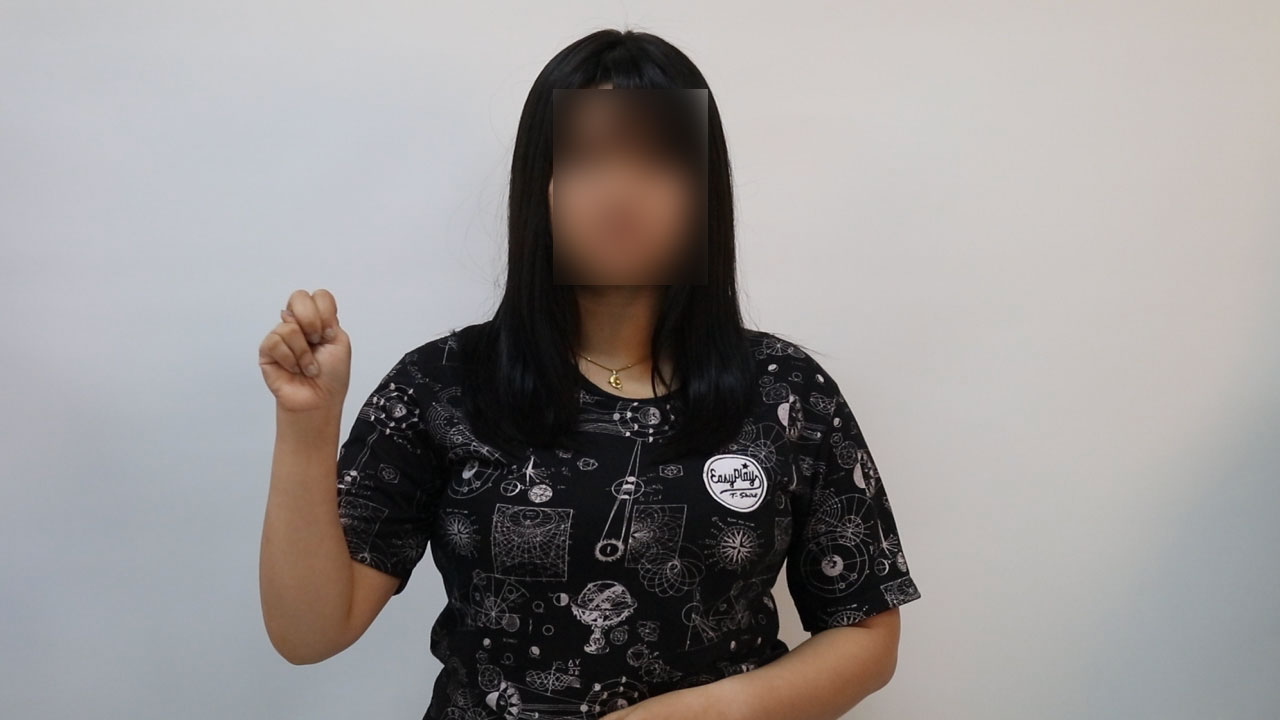nor: (246, 274, 365, 421)
